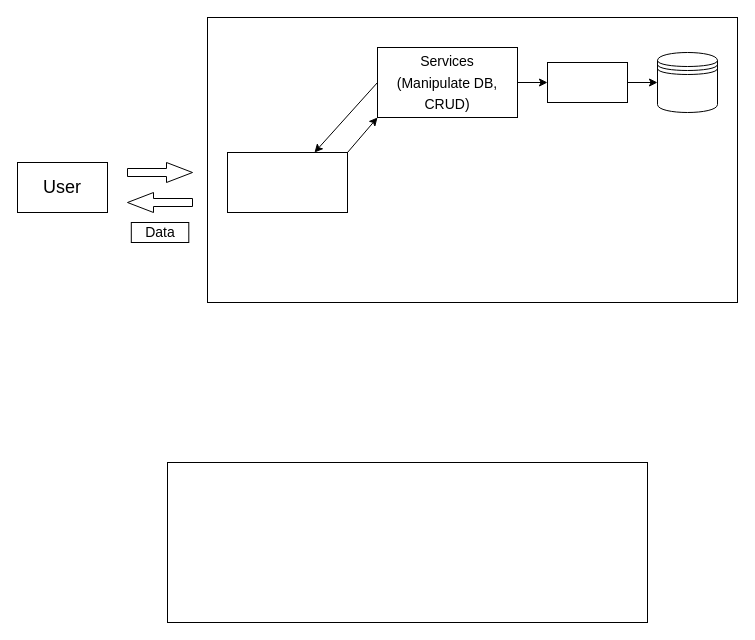
The diagram is 755 pixels wide and 640 high, and some of its shapes have lost their labels. Here are the shapes that lost their labels. From the top down, the centre of each, then its label:
At [587,82]: "Models".
At [287,182]: "View (controller)".
